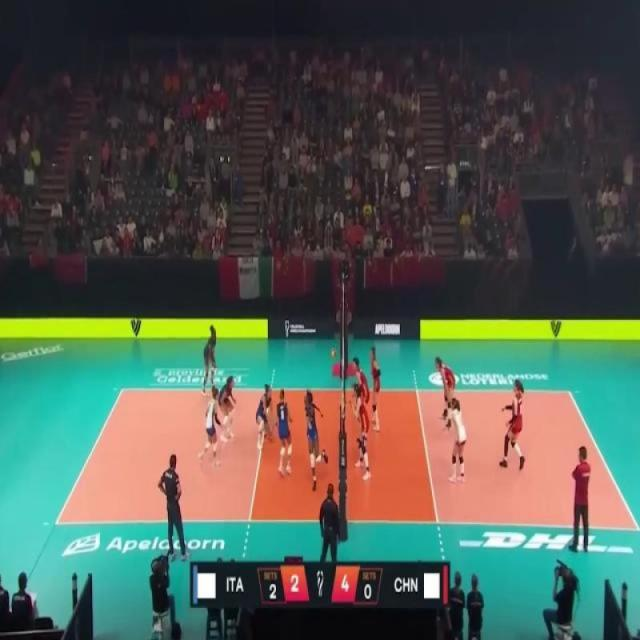volleyball: (330, 348, 337, 358)
